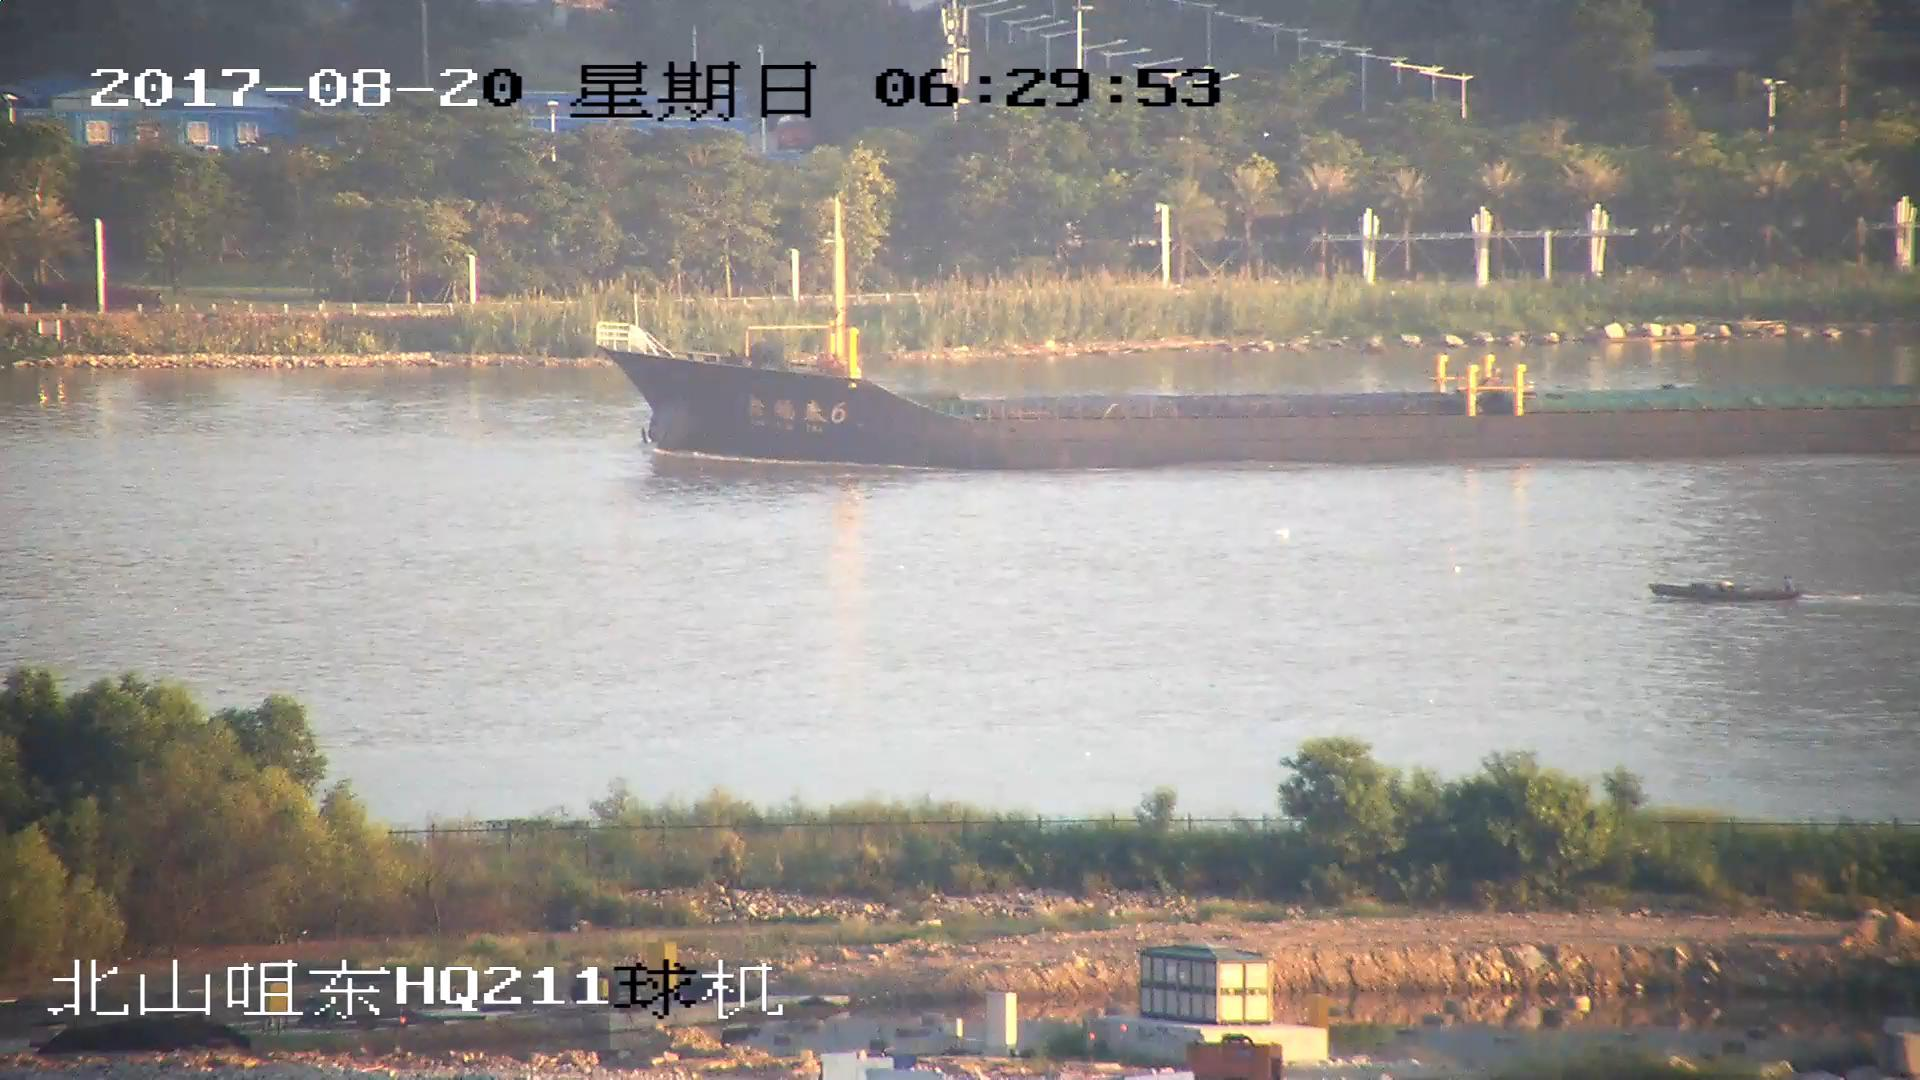Ship: (592, 208, 1920, 476), (1650, 571, 1804, 607)
